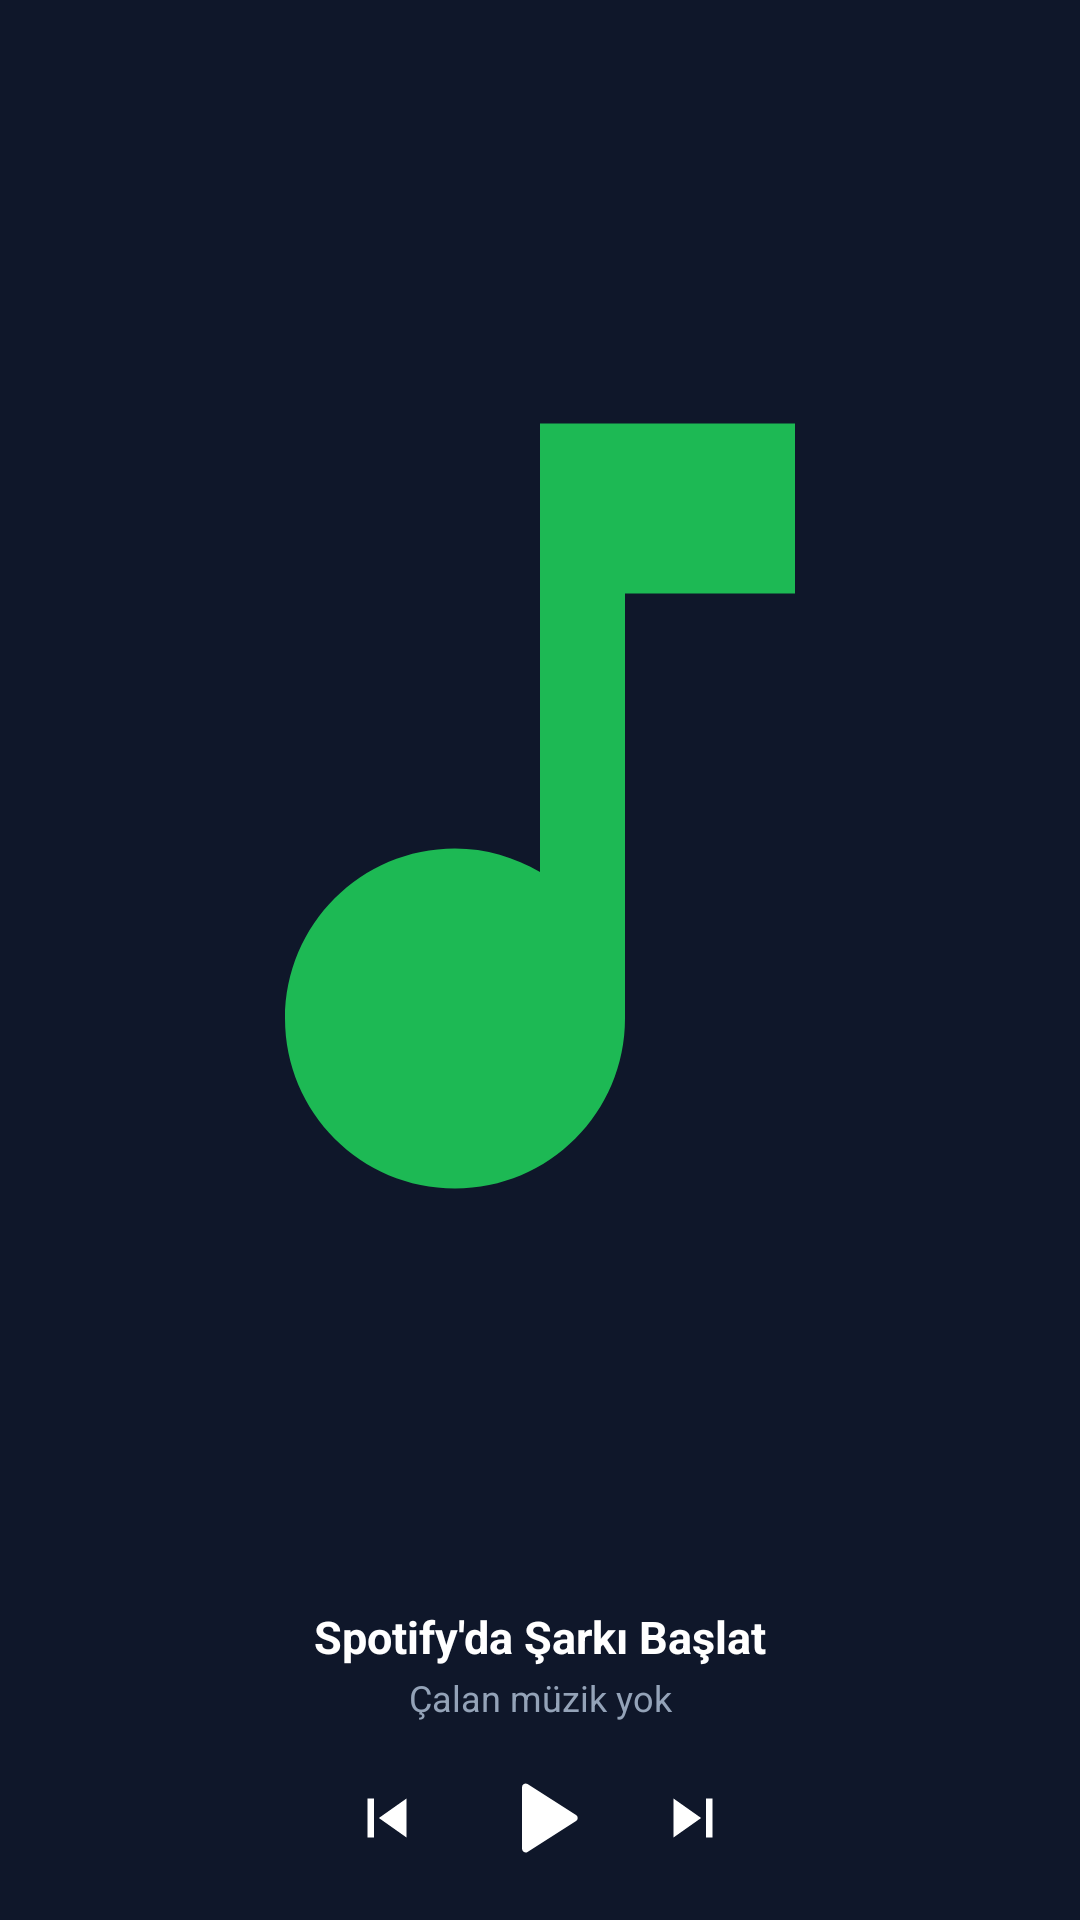

Where to tap for icons on this 1080×1920 app screen, as [x,y]:
play: [550,1818]
skip next: [693,1818]
skip previous: [387,1818]
